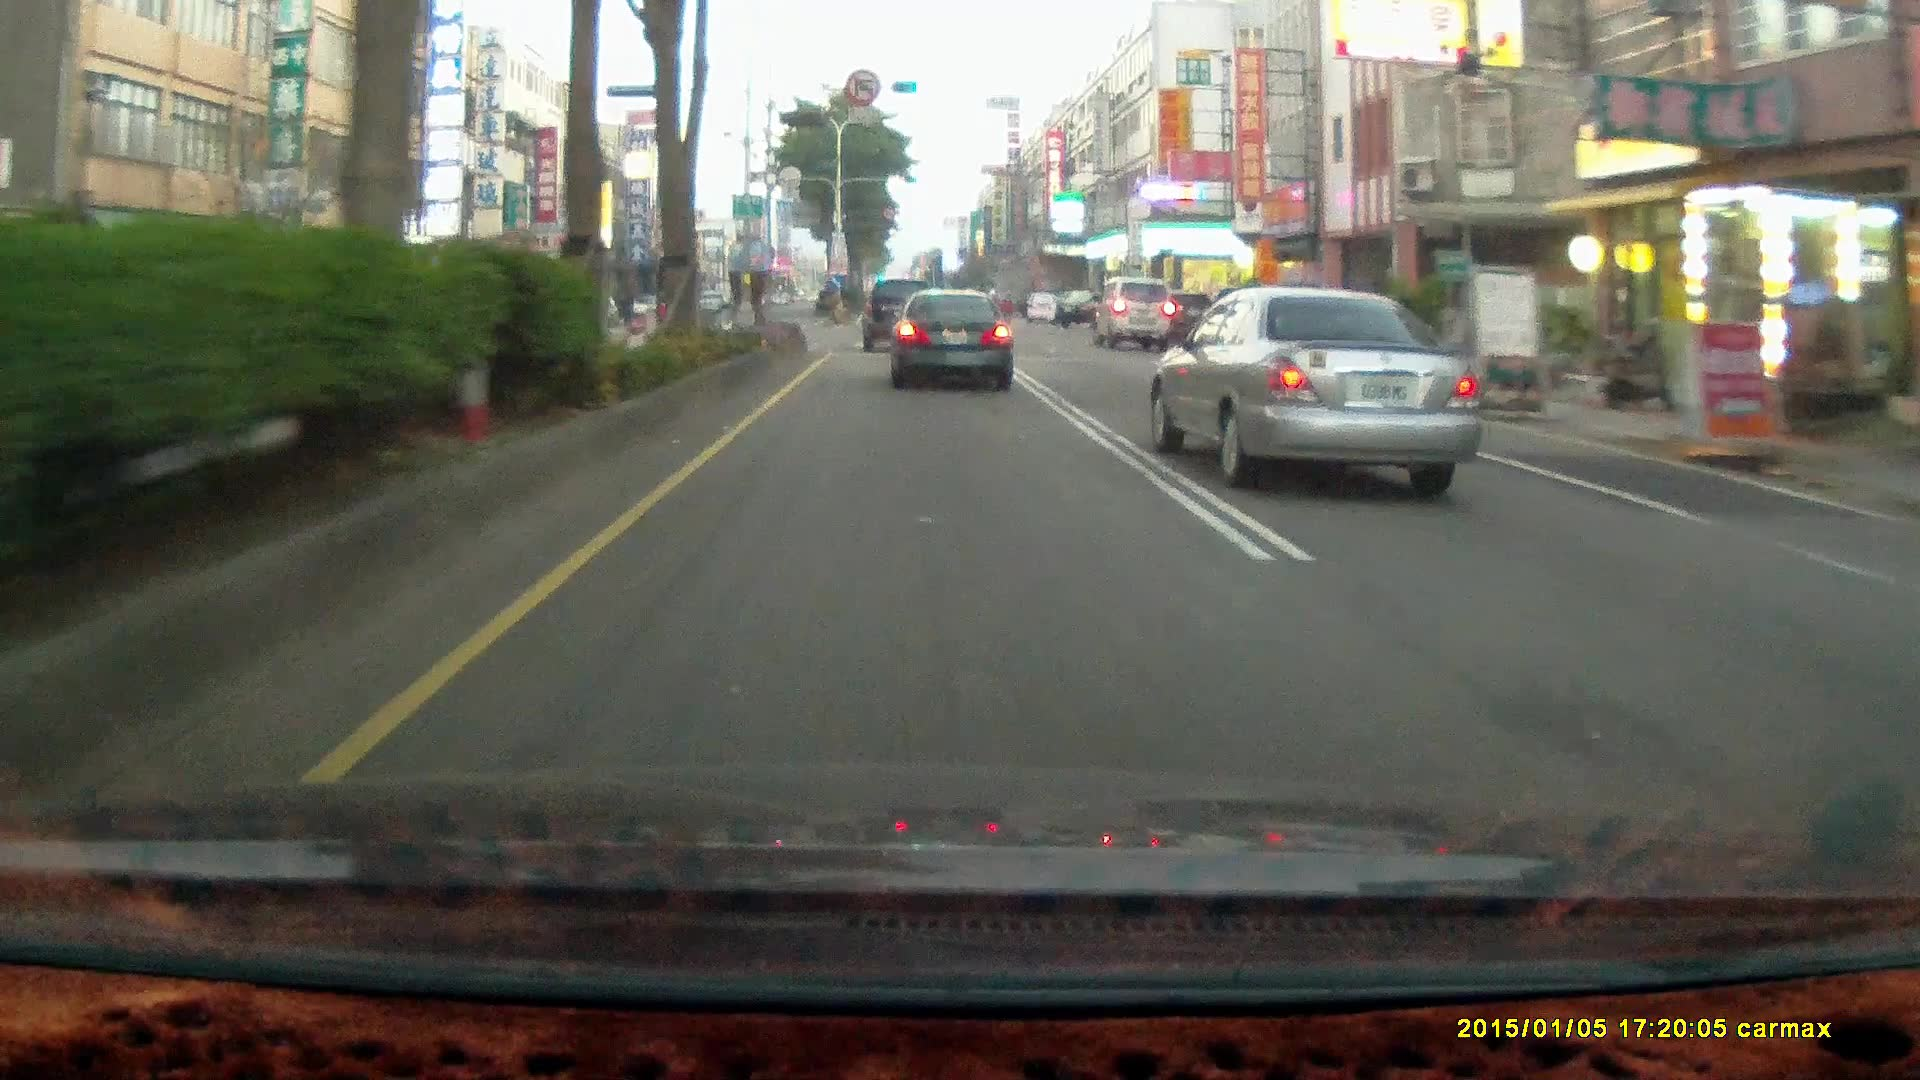vehicle: (1150, 285, 1482, 483), (889, 284, 1019, 393), (889, 284, 1011, 386), (1093, 274, 1175, 349), (861, 278, 940, 355), (1093, 273, 1175, 347), (861, 277, 938, 349), (1055, 285, 1116, 324), (1026, 287, 1060, 316)
